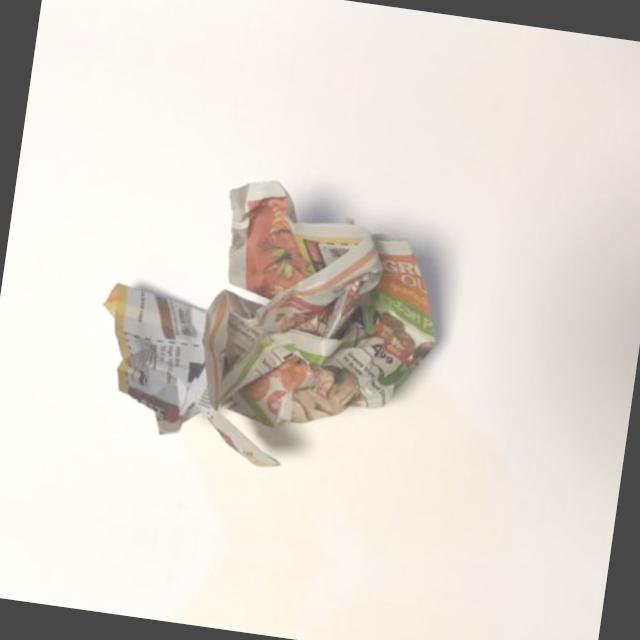paper: (51, 143, 504, 529), (33, 575, 443, 640)
